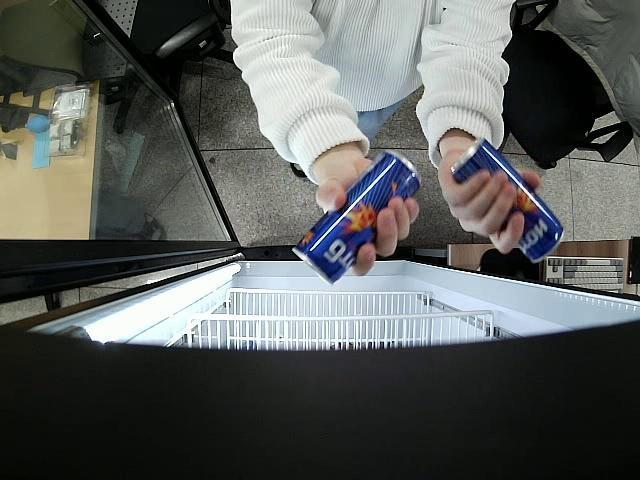16_hot6: (292, 150, 421, 287), (452, 141, 564, 262)
